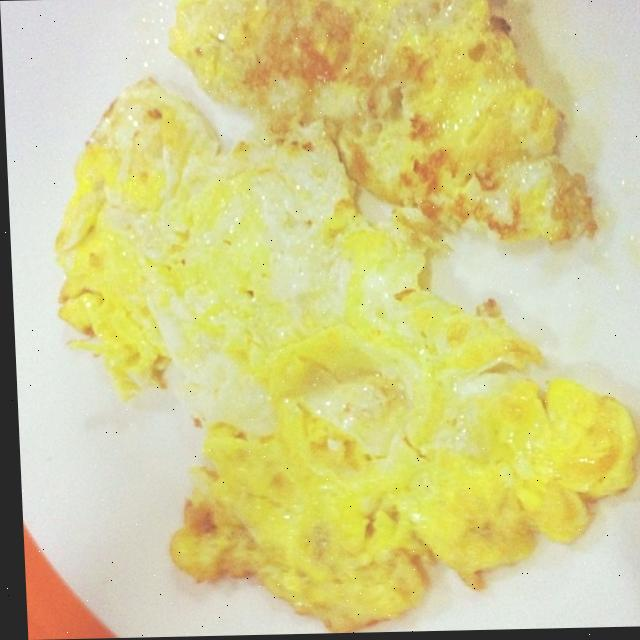鸡蛋料理: (50, 0, 640, 634)
